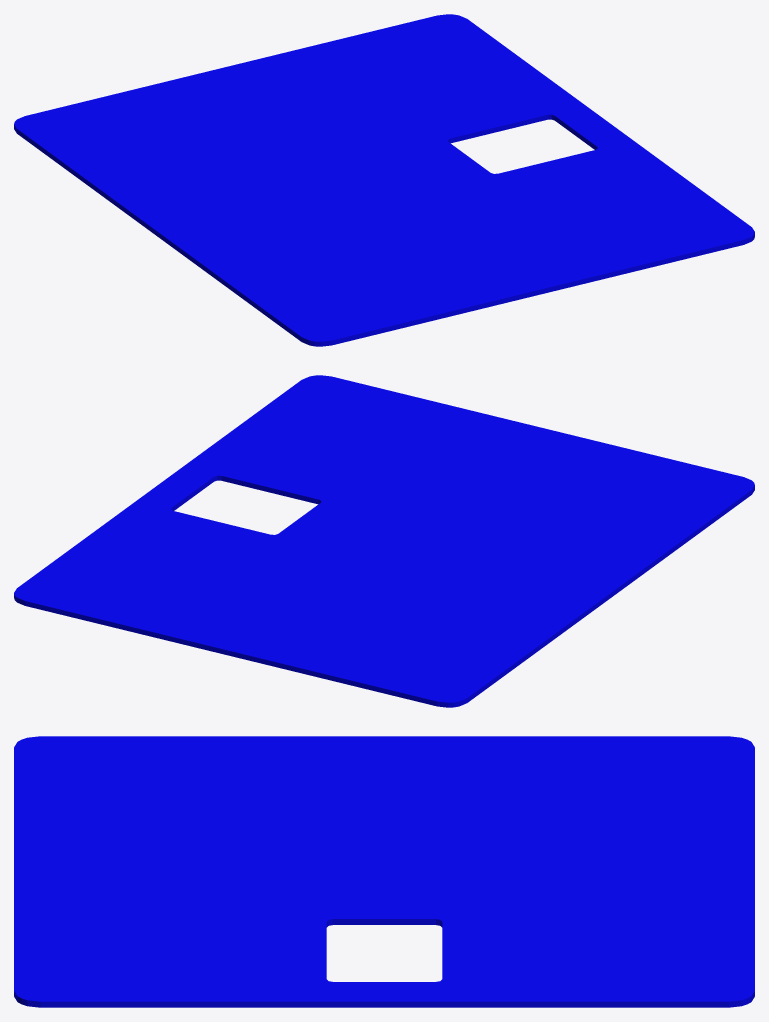
Rendered from cabinet_door_4.obj.
3 views of the same model, one above another, from view 1: azimuth 30°, elevation 25°; view 2: azimuth 150°, elevation 25°; view 3: azimuth 270°, elevation 25° (orthographic). The views are drawn at different scales.
Size of the model in its own units: 0.3015 by 0.00317 by 0.3556.
